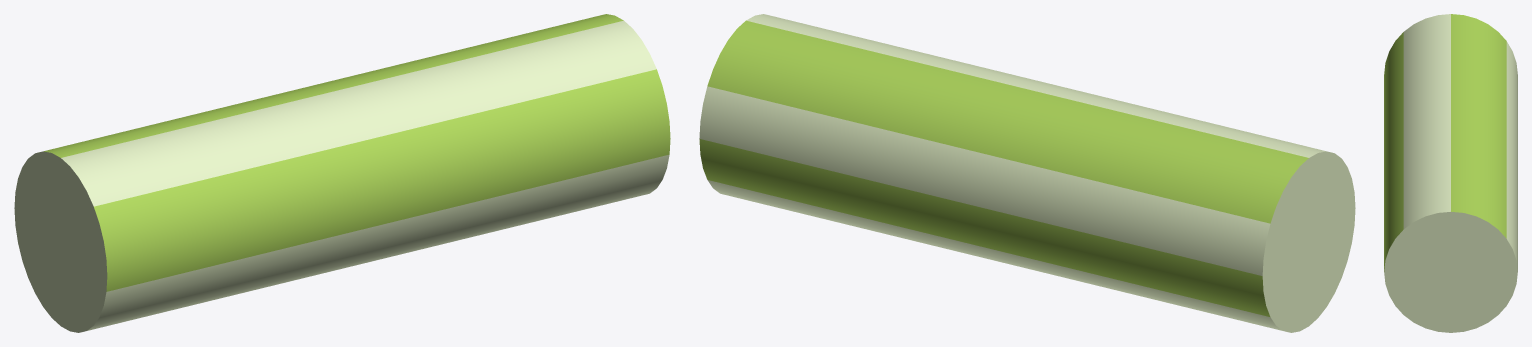
Rendered from BaseFloorSmall.fbx.
3 renders of one model, left to right at view 1: azimuth 30°, elevation 25°; view 2: azimuth 150°, elevation 25°; view 3: azimuth 270°, elevation 25°, orthographic. The views are drawn at different scales.
Visible parts, largest first — view 1: BaseFloorSmall; view 2: BaseFloorSmall; view 3: BaseFloorSmall.
Part boxes in pixels (x1,y1,x2,y2): BaseFloorSmall: (14, 14, 670, 332); BaseFloorSmall: (699, 14, 1355, 332); BaseFloorSmall: (1384, 14, 1517, 332).
Bounding box in the file's own units: 4.9 × 1.4 × 1.4.
1 material, 1 textured.
